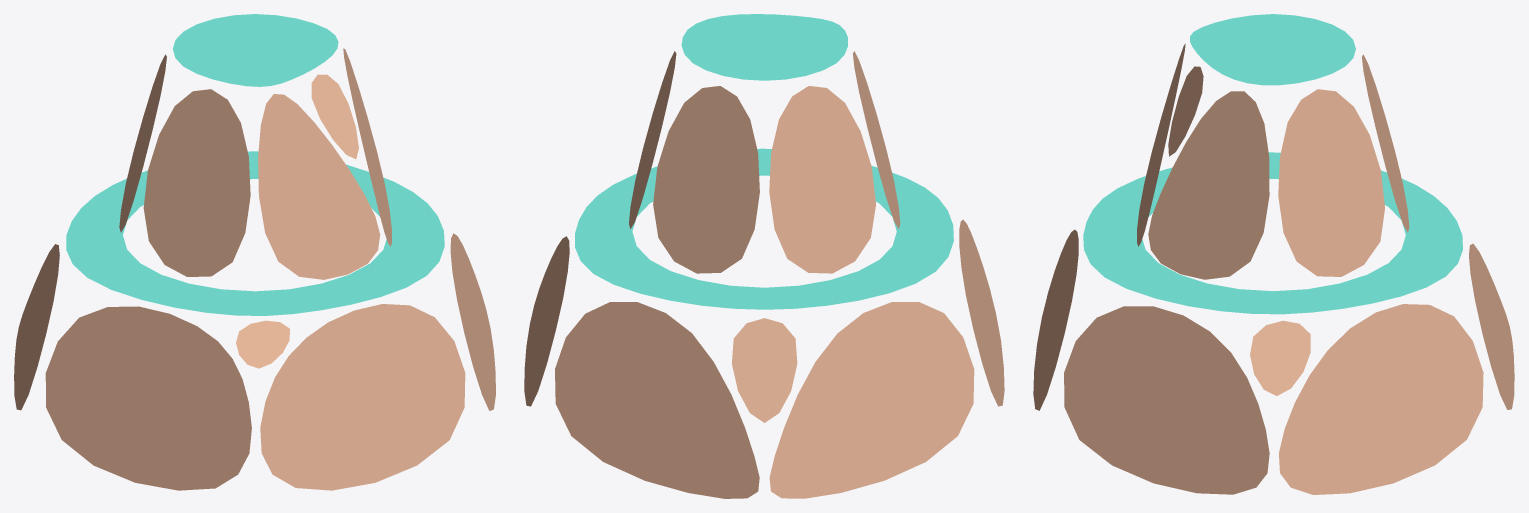
The model's file is rock_smallF.glb.
3 renders of one model, left to right at view 1: azimuth 30°, elevation 25°; view 2: azimuth 150°, elevation 25°; view 3: azimuth 270°, elevation 25°, orthographic.
Parts seen in each view (by area): view 1: rock_smallF; view 2: rock_smallF; view 3: rock_smallF.
Part boxes in pixels (<box>): rock_smallF: <box>14,14,495,490</box>; rock_smallF: <box>524,14,1004,498</box>; rock_smallF: <box>1033,14,1514,494</box>.
Size of the model in its own units: 0.3257 by 0.2453 by 0.3047.
